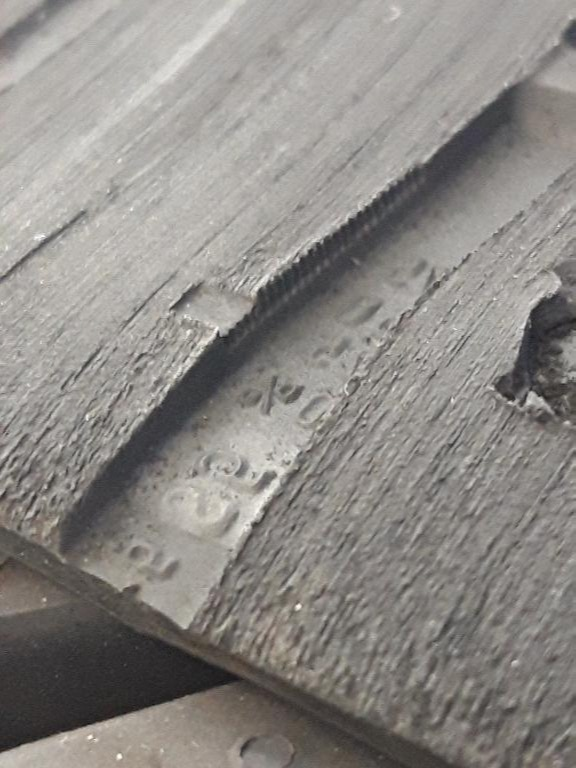temoin:0: (158, 252, 285, 359)
